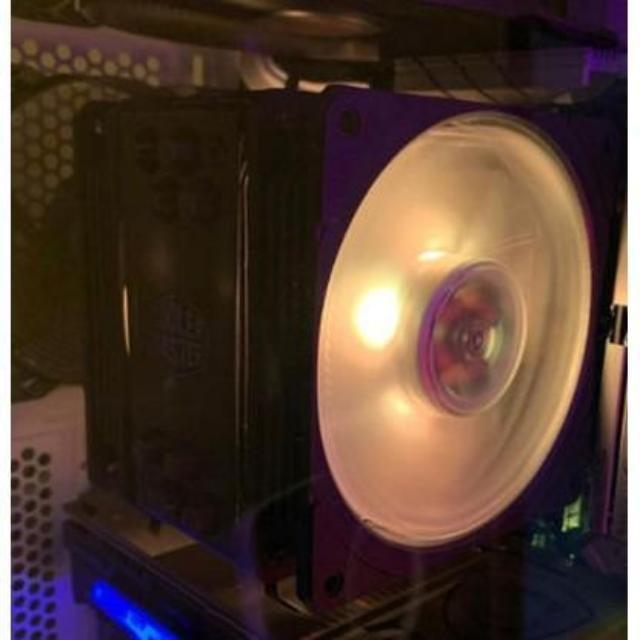CPU_Fan: (69, 98, 603, 606)
